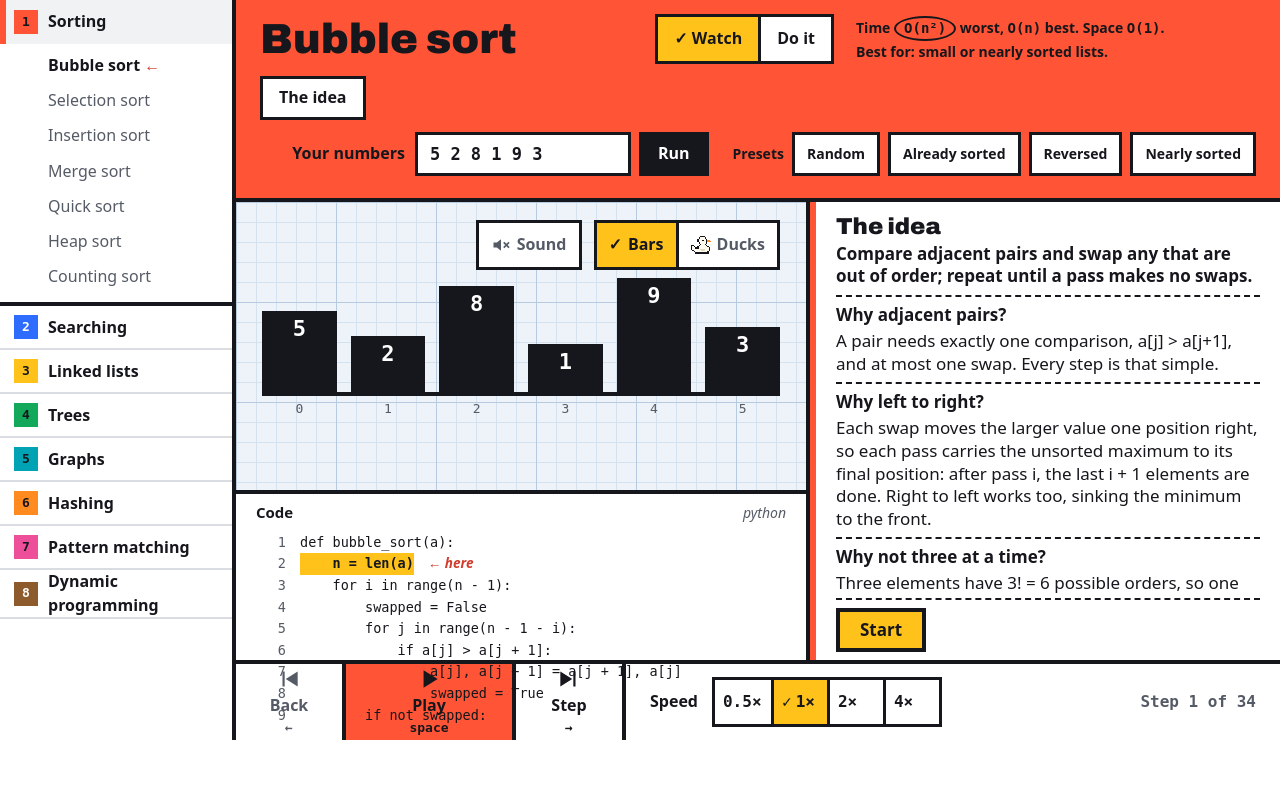
WorkspacePage skeleton › shows the algorithm in the band and every panel from design D
Expected: the heading "Bubble sort" is shown, top-left (260, 16), bottom-right (517, 62)
Expected: the element named "Visualization" is shown, top-left (236, 202), bottom-right (806, 490)
What coordinates should you click on to do the following:
click the button "Start"
I would click on:
 (881, 630)
Its box is top-left (836, 608), bottom-right (926, 652).
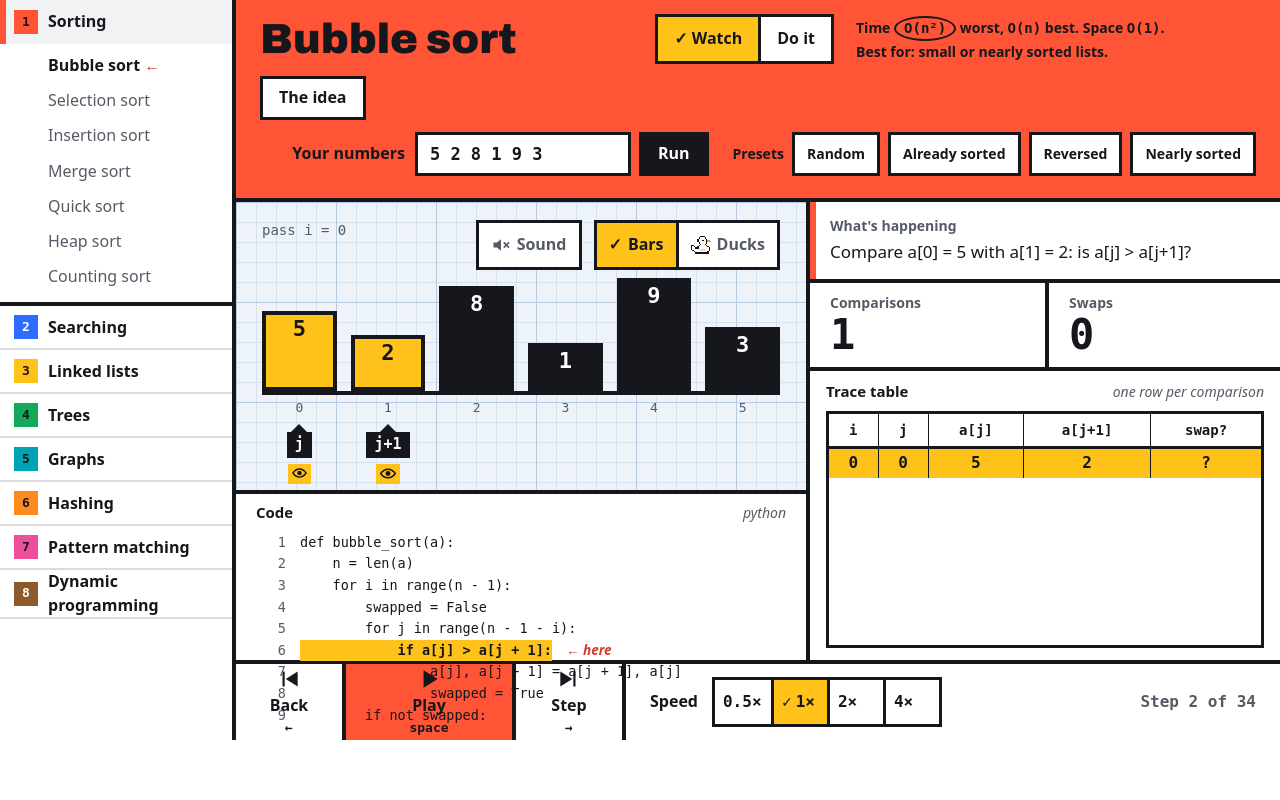
Expected: the text "Comparisons" is shown, top-left (830, 293), bottom-right (921, 312)
Expected: the element "What's happening" is shown, top-left (810, 202), bottom-right (1279, 283)
Expected: the element "Trace table" is shown, top-left (810, 371), bottom-right (1279, 660)
